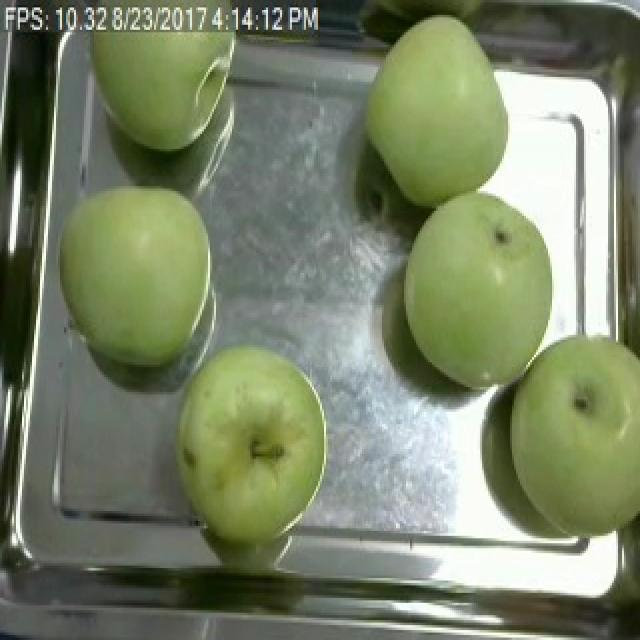50-_ripeness: (53, 173, 237, 374), (394, 194, 556, 385), (182, 348, 334, 542), (361, 13, 515, 198), (517, 341, 640, 549)
